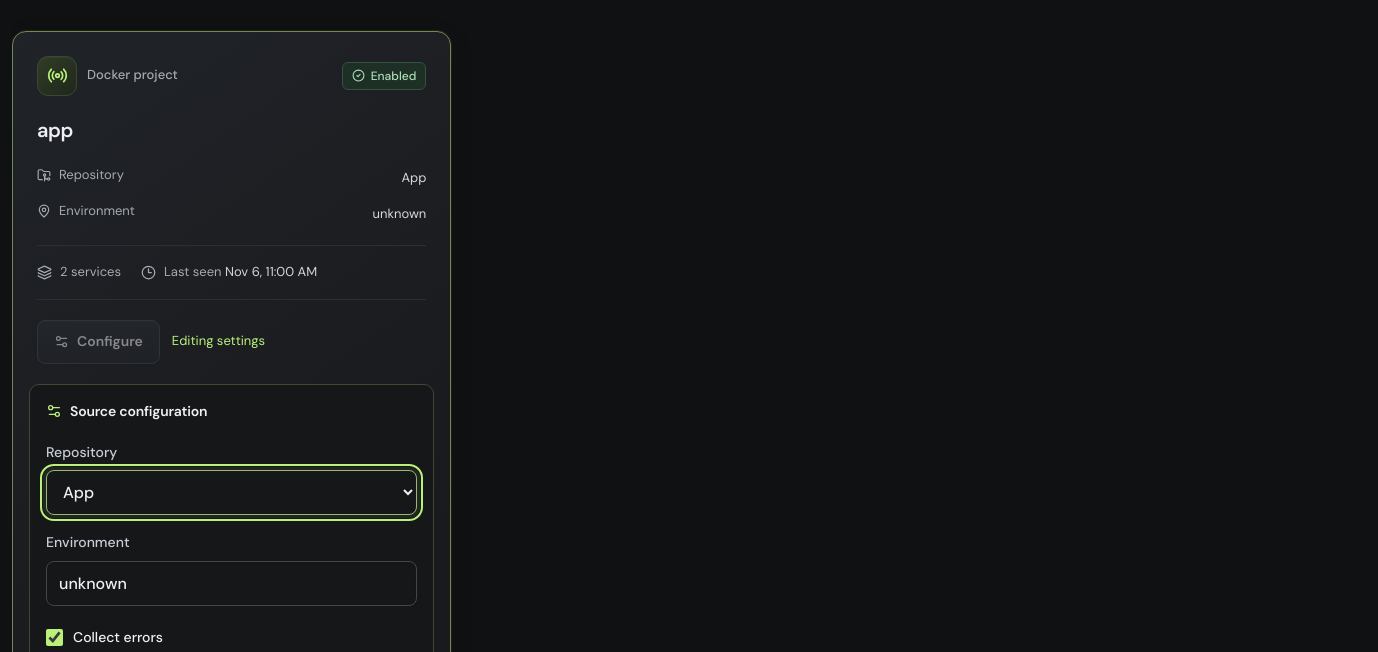
Test: saves environment and per-service enablement for the correct collector
Earlier steps of the test are not shown.
Step 1. Replace the text in the field named "Environment for app (host-a)" with "production" → [232, 583], box [46,561,417,606]
(page scrolled)
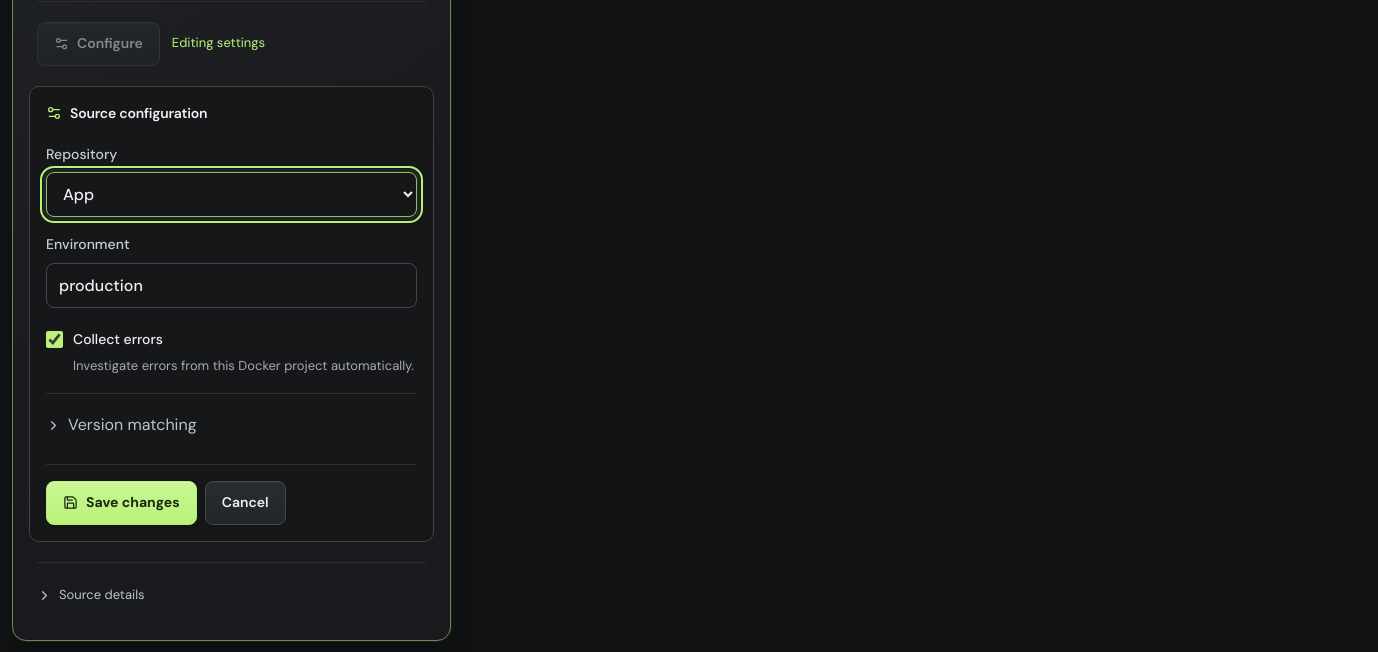
Step 2. Click the heading "Version matching" → [121, 425], box [46,414,197,435]
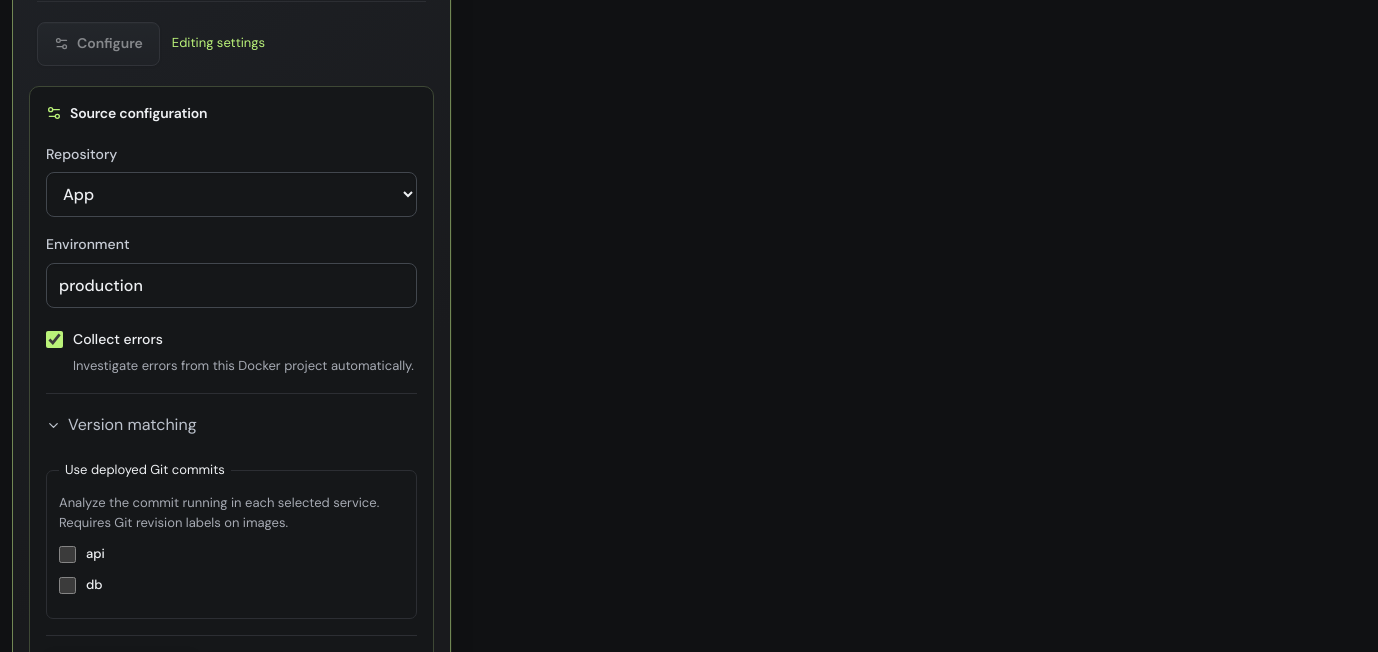
Step 3. Click the checkbox labelled "api" → [68, 555], box [59,546,76,563]
(page scrolled)
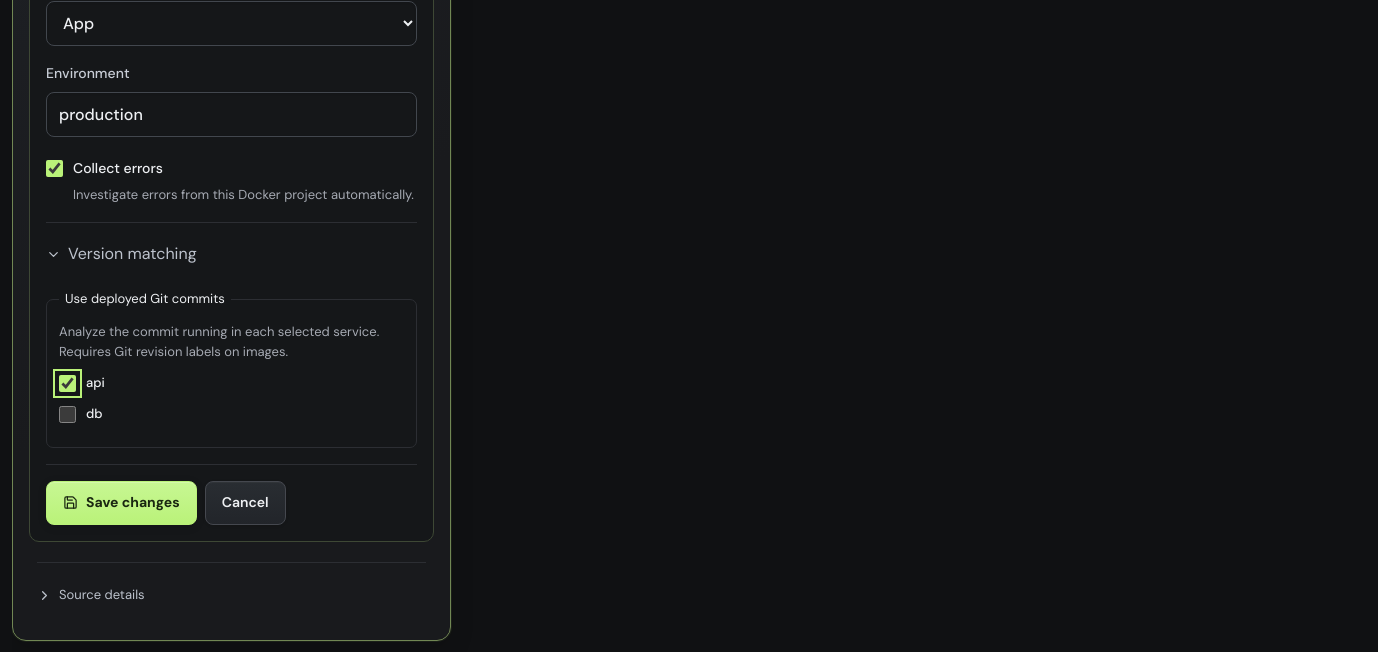
Check: the checkbox labelled "db" is not checked, box [59,406,76,423]
Step 4. Click the button "Save changes" → [121, 503], box [46,481,197,525]
(page scrolled)
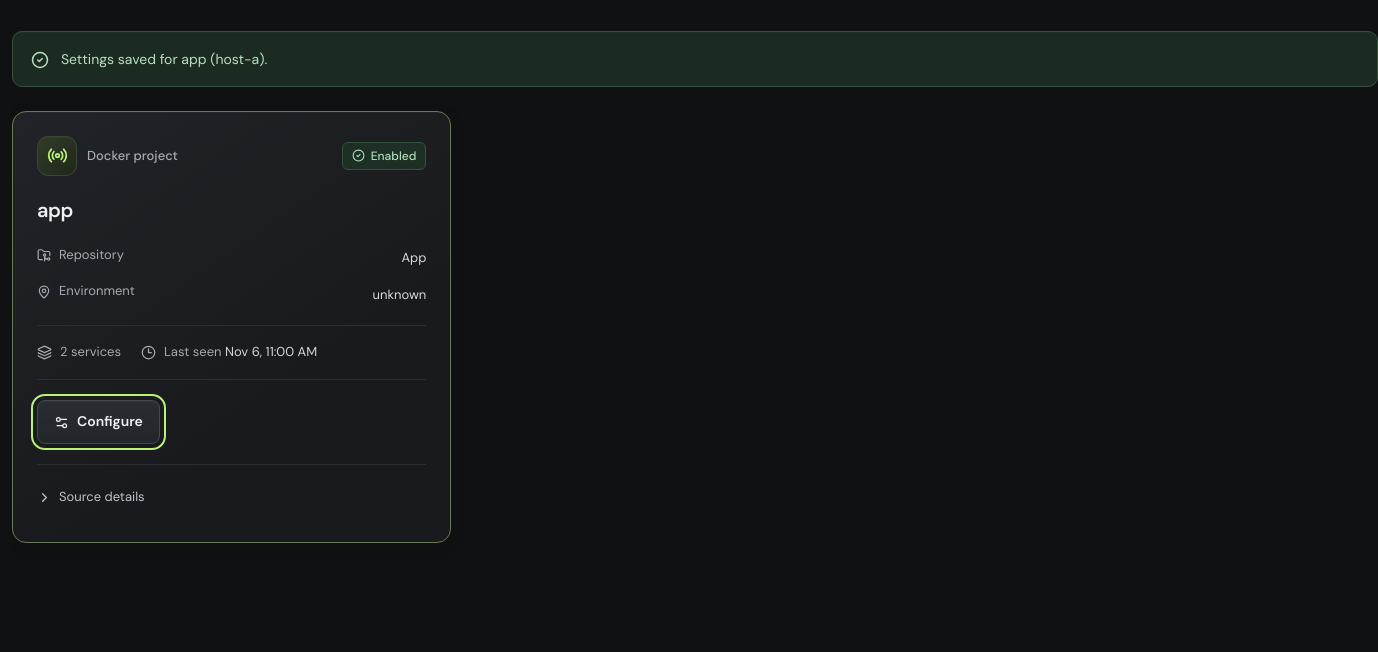
Step 5. Click the heading "Source details" → [91, 497], box [37,488,145,505]
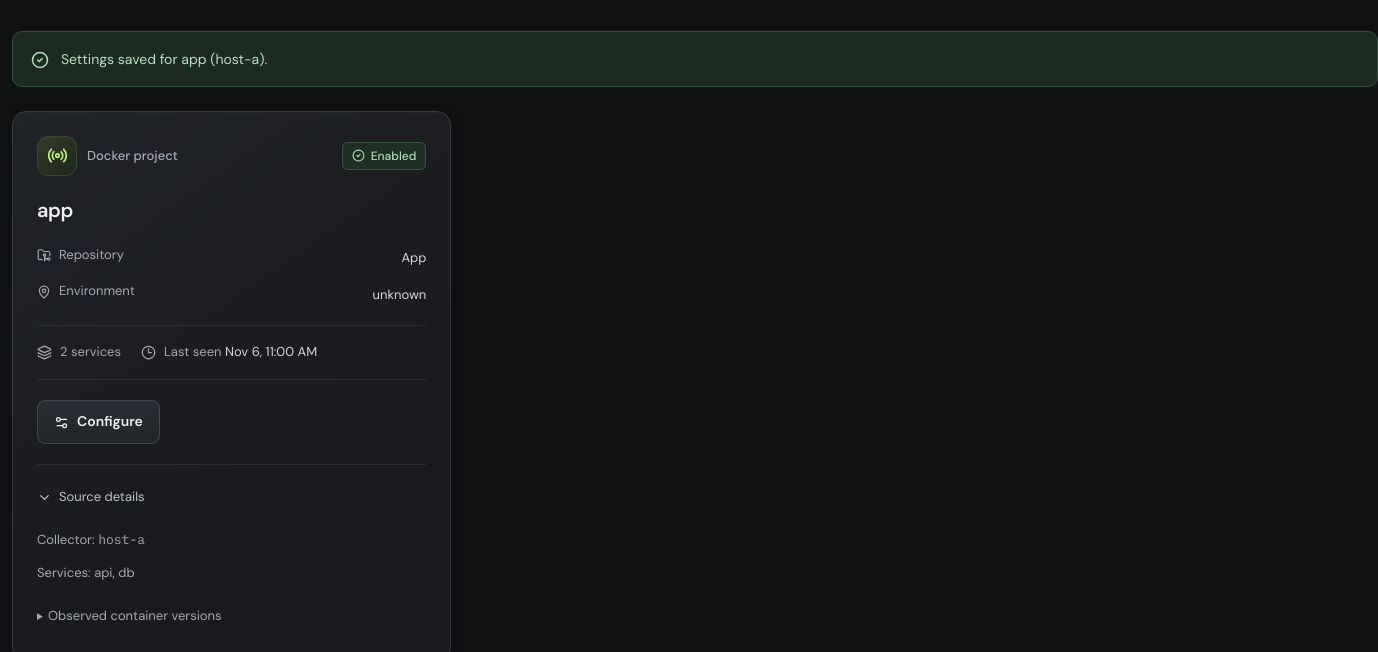
Step 6. Click the heading "Observed container versions" → [135, 615], box [48,606,222,624]
(page scrolled)
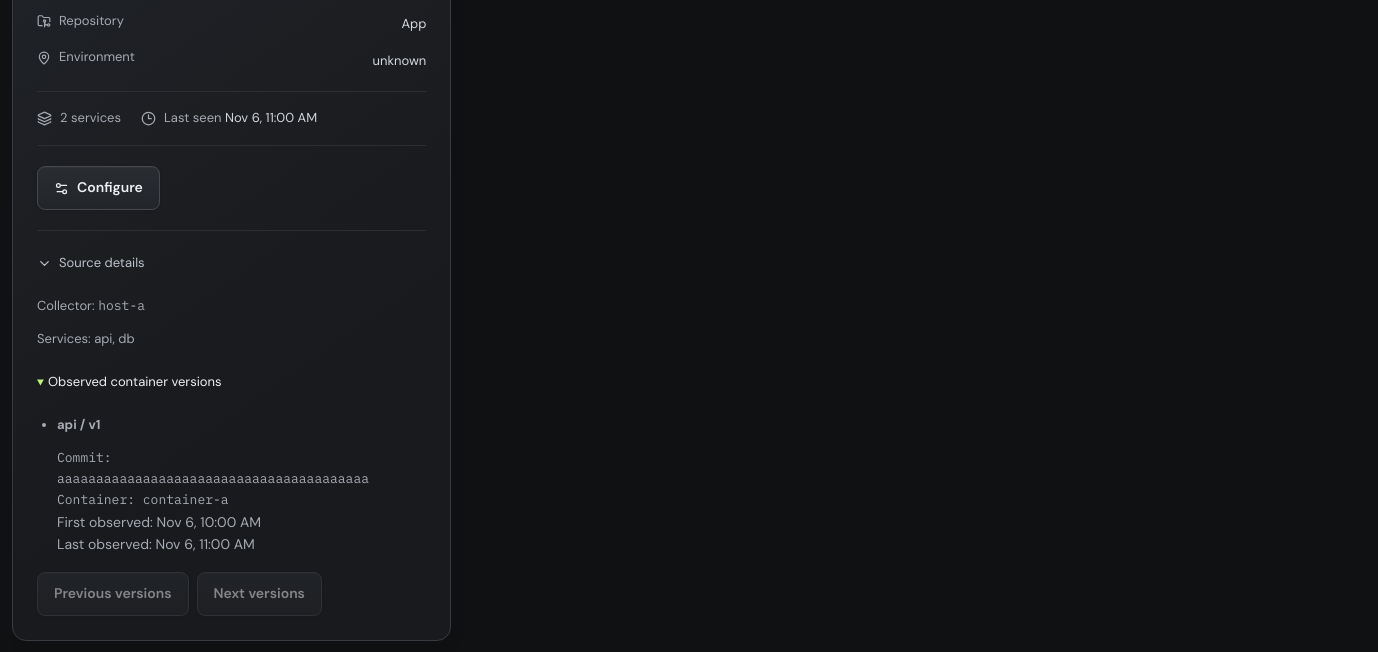
Check: the text "First observed" is shown, box [57,512,156,530]
